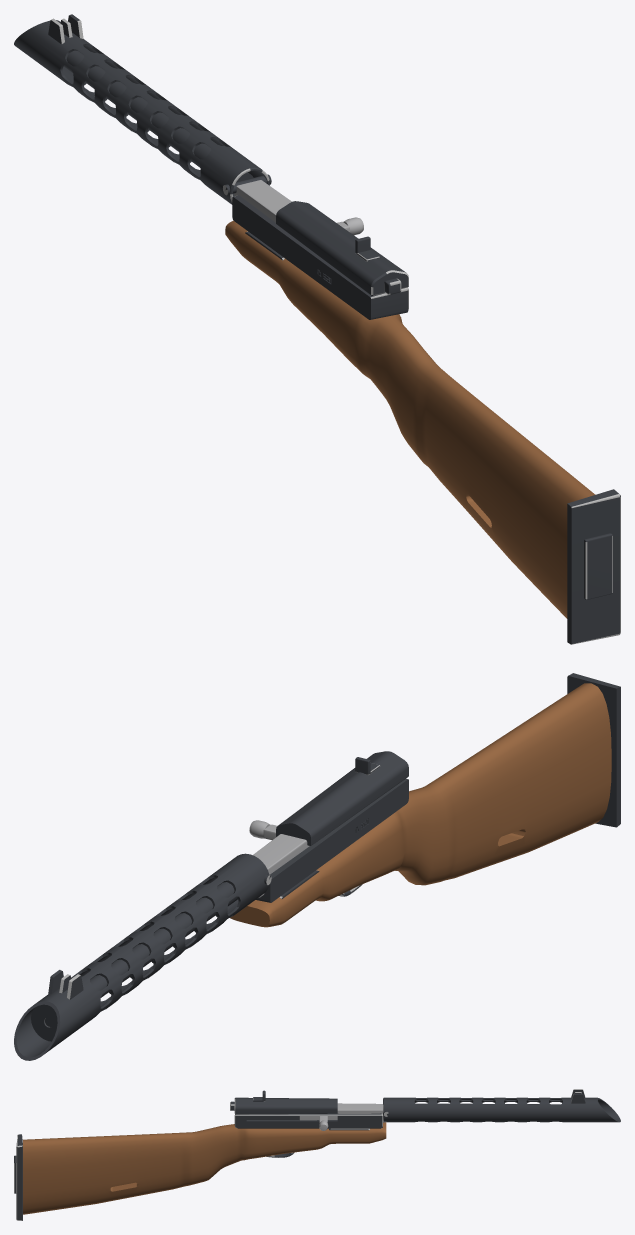
File: ppsh.glb
The picture shows the model from 3 angles, top to bottom: view 1: azimuth 30°, elevation 25°; view 2: azimuth 150°, elevation 25°; view 3: azimuth 270°, elevation 25°; orthographic projection. The views are drawn at different scales.
Parts seen in each view (by area): view 1: static, bolt; view 2: static, bolt; view 3: static, bolt.
Part boxes in pixels (x1=…): static: x1=14, y1=14, x2=620, y2=644; bolt: x1=234, y1=180, x2=363, y2=235; static: x1=14, y1=673, x2=620, y2=1060; bolt: x1=249, y1=820, x2=309, y2=897; static: x1=14, y1=1089, x2=620, y2=1220; bolt: x1=299, y1=1103, x2=386, y2=1130.
Bounding box in the file's own units: 0.069 × 0.1945 × 0.8675.
